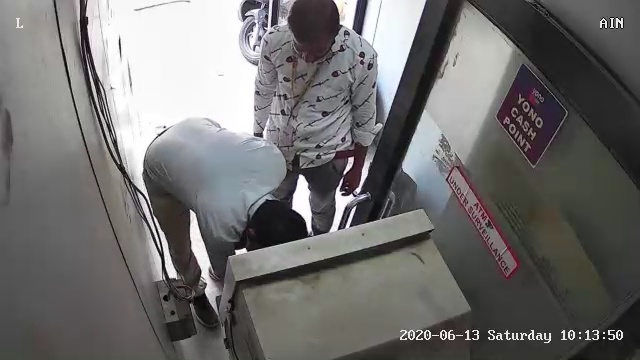open: (348, 4, 635, 354)
